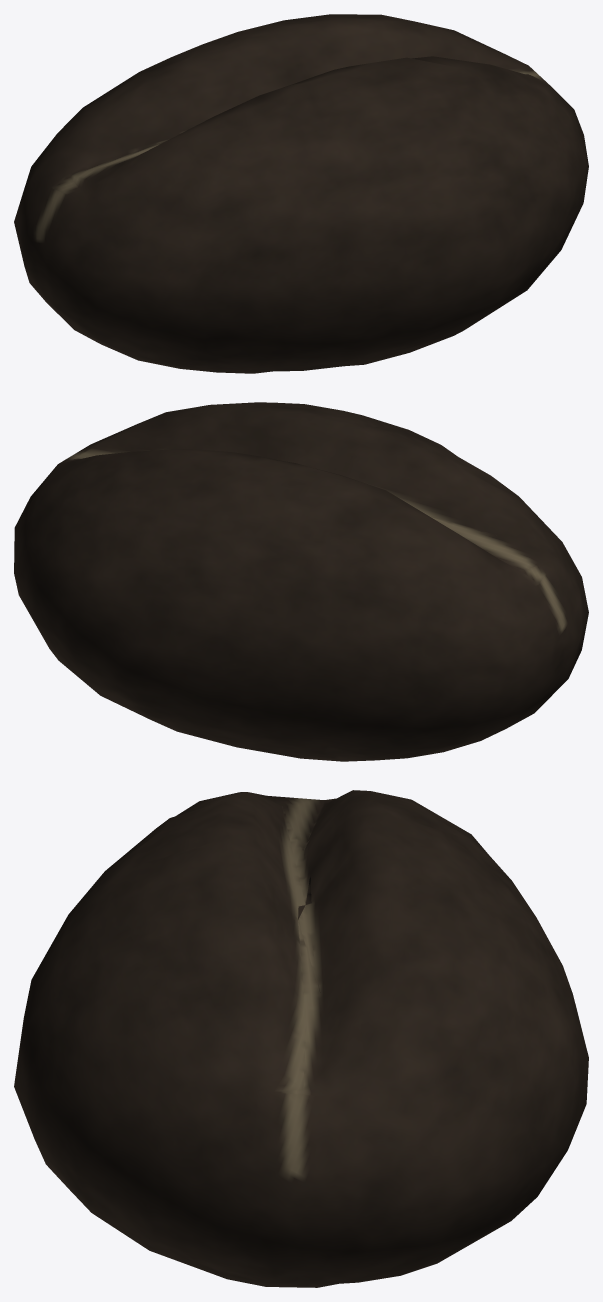
The model's file is bean_black_lod.glb.
3 renders of one model, top to bottom at view 1: azimuth 30°, elevation 25°; view 2: azimuth 150°, elevation 25°; view 3: azimuth 270°, elevation 25°, orthographic. The views are drawn at different scales.
Visible parts, largest first — view 1: bean_black; view 2: bean_black; view 3: bean_black.
Part boxes in pixels (x1=…): bean_black: x1=14, y1=14, x2=588, y2=373; bean_black: x1=14, y1=402, x2=588, y2=761; bean_black: x1=14, y1=790, x2=588, y2=1287.
Bounding box in the file's own units: 0.0098 × 0.0051 × 0.0071.
Materials: 1 (1 with a texture image).
